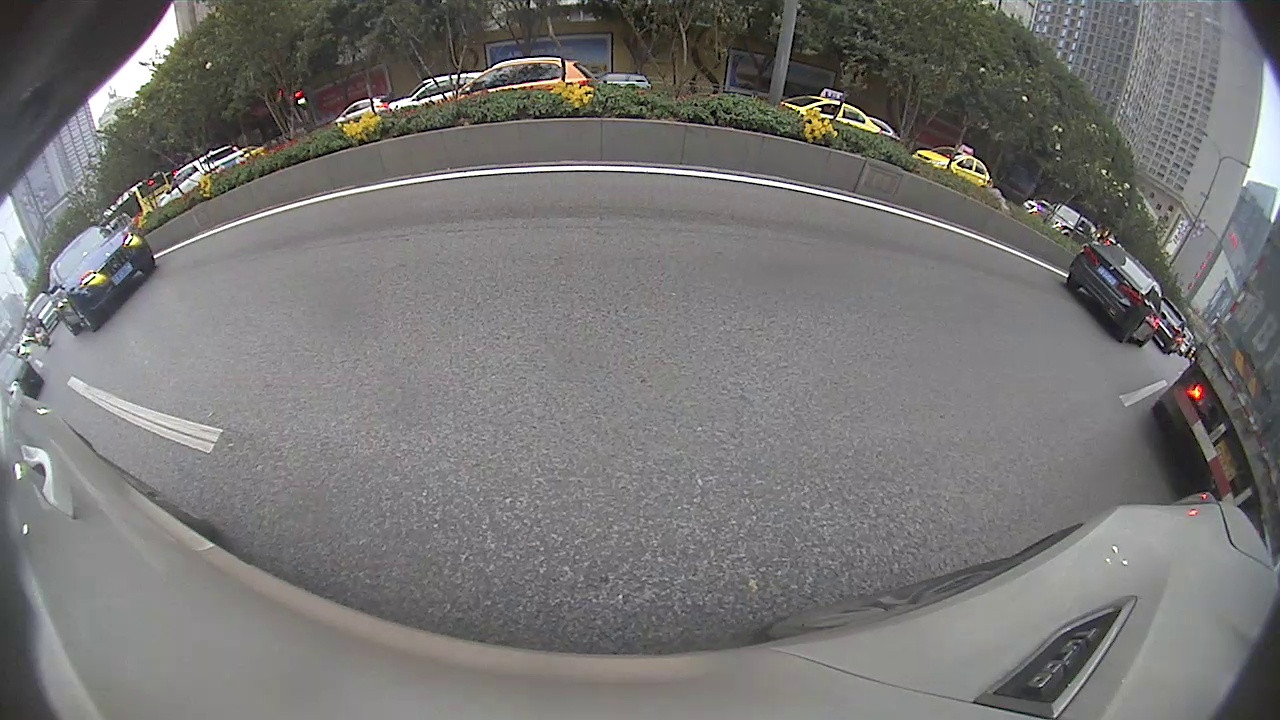car: (43, 225, 158, 337), (1067, 237, 1162, 347), (1158, 299, 1185, 355)
front: (68, 299, 98, 333)
